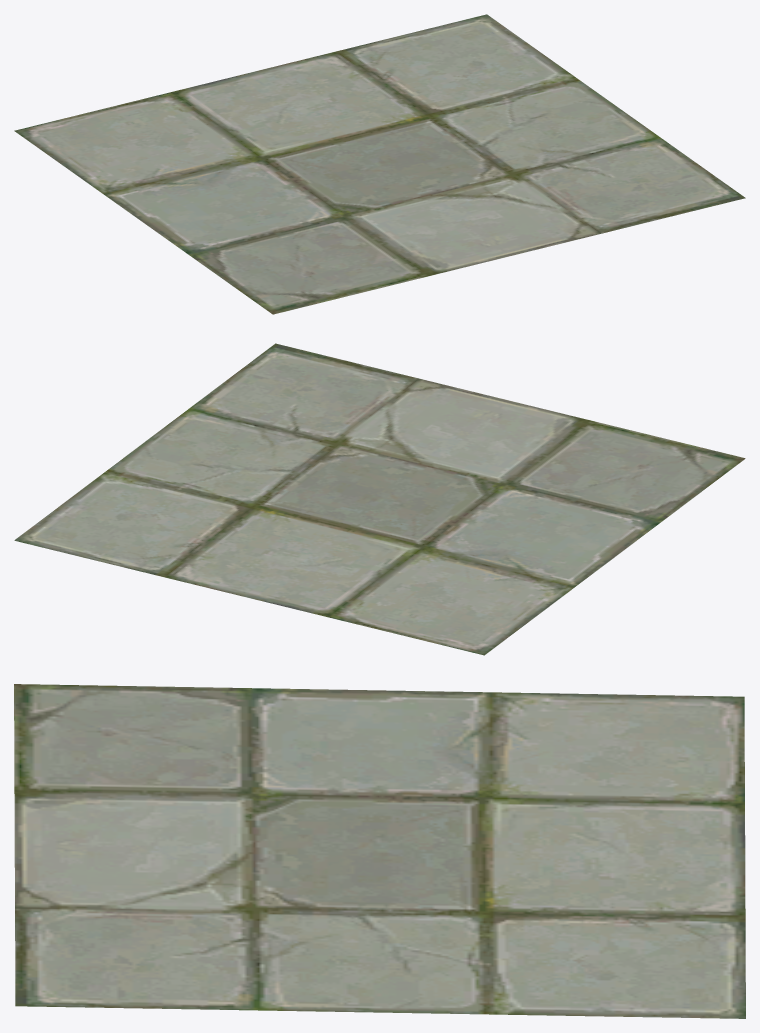
The model's file is xsz_pingtai_3.FBX.
3 views of the same model, one above another, from view 1: azimuth 30°, elevation 25°; view 2: azimuth 150°, elevation 25°; view 3: azimuth 270°, elevation 25° (orthographic). The views are drawn at different scales.
Visible parts, largest first — view 1: xsz_pingtai_3; view 2: xsz_pingtai_3; view 3: xsz_pingtai_3.
Part boxes in pixels (box(x1,y1,x2,y2)): xsz_pingtai_3: box(14, 14, 745, 314); xsz_pingtai_3: box(14, 343, 745, 655); xsz_pingtai_3: box(14, 684, 745, 1018).
Bounding box in the file's own units: 392 × 6.74 × 374.
